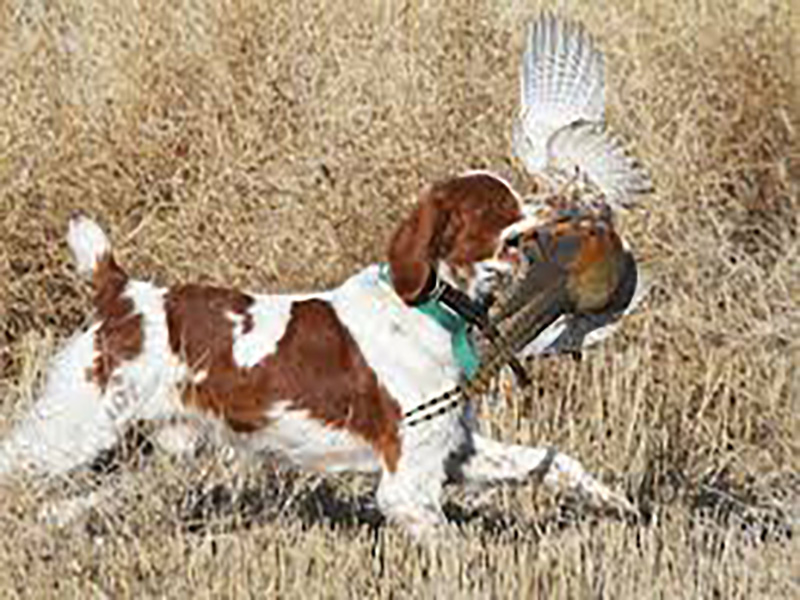cane da caccia: (11, 164, 642, 548)
